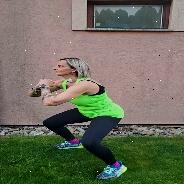squats: (29, 55, 137, 182)
